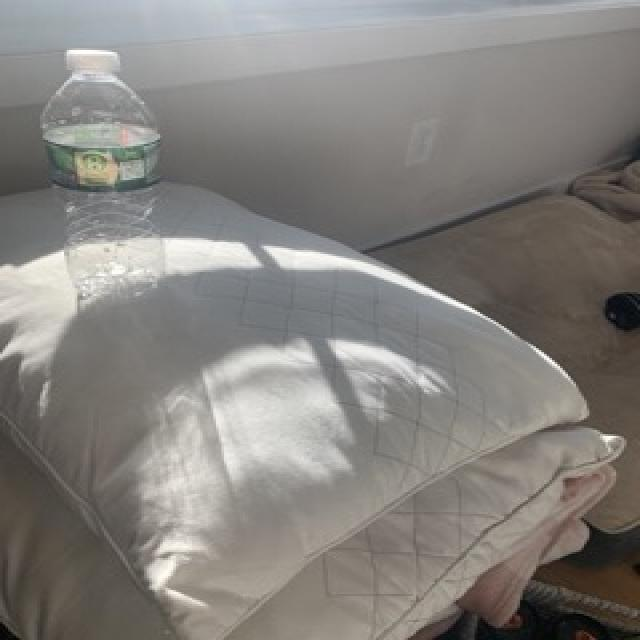water_bottle: (35, 48, 176, 307)
